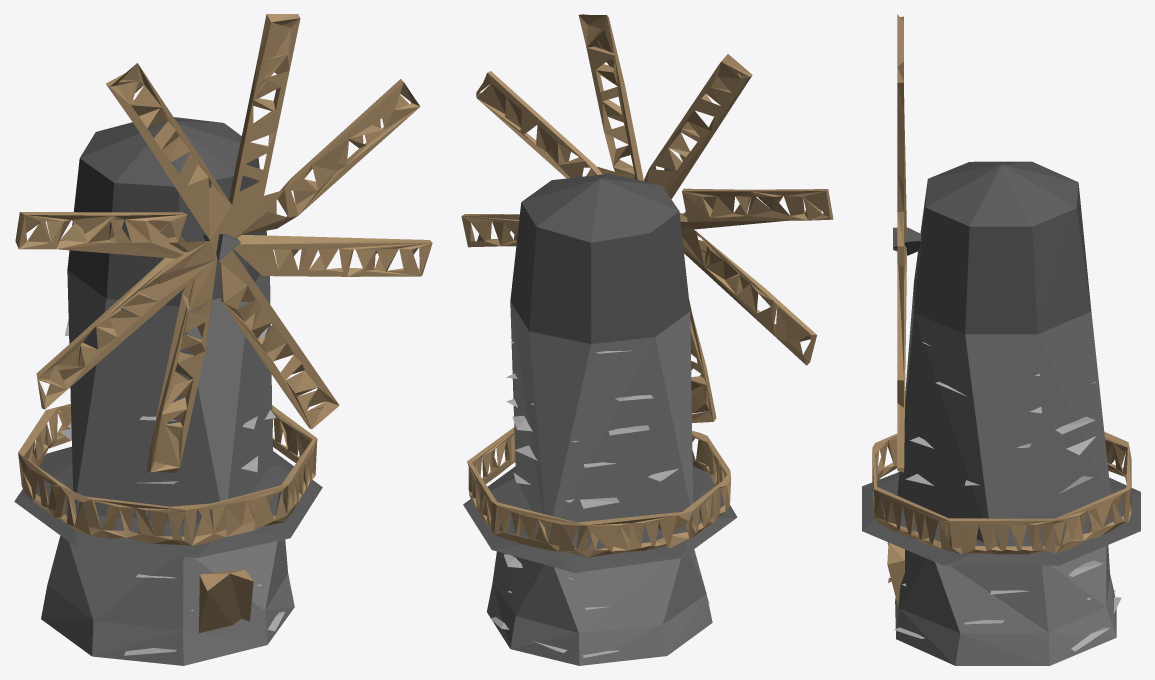
Rendered from TowerWindmill.lod2.glb.
3 views of the same model, side by side, from view 1: azimuth 30°, elevation 25°; view 2: azimuth 150°, elevation 25°; view 3: azimuth 270°, elevation 25° (orthographic). The views are drawn at different scales.
Parts seen in each view (by area): view 1: TowerWindmill, TowerWindmill_Blades; view 2: TowerWindmill, TowerWindmill_Blades; view 3: TowerWindmill, TowerWindmill_Blades.
Part boxes in pixels (bbox=[...]): TowerWindmill: bbox=[14, 117, 322, 665]; TowerWindmill_Blades: bbox=[15, 14, 432, 472]; TowerWindmill: bbox=[463, 173, 737, 665]; TowerWindmill_Blades: bbox=[461, 14, 833, 422]; TowerWindmill: bbox=[862, 161, 1140, 665]; TowerWindmill_Blades: bbox=[897, 14, 906, 472].
Size of the model in its own units: 7.9 by 11.41 by 4.98.
